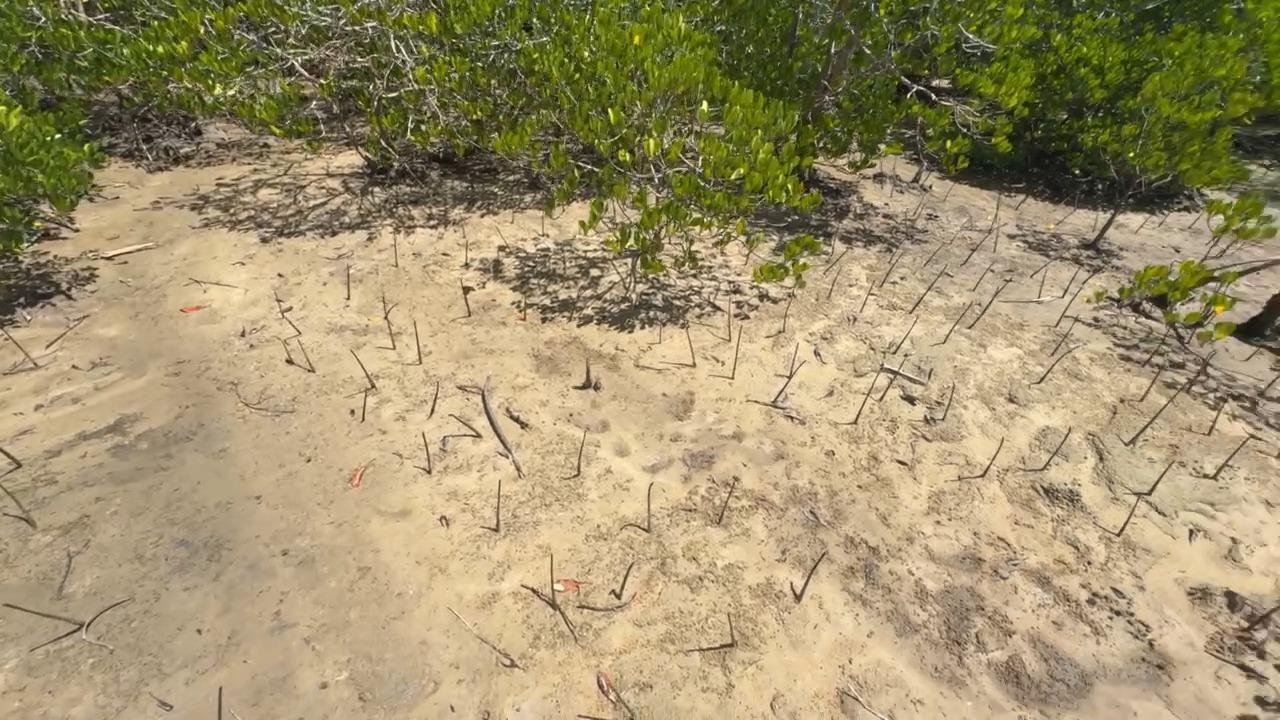Tree: (1185, 321, 1237, 393), (1126, 385, 1185, 444), (1141, 308, 1180, 368), (3, 602, 85, 626), (909, 265, 948, 314), (1212, 435, 1253, 478), (1037, 345, 1081, 384), (854, 365, 883, 424), (771, 360, 807, 403), (0, 326, 38, 366), (797, 552, 826, 603), (965, 286, 999, 329), (0, 483, 33, 527), (942, 300, 974, 344), (1041, 425, 1071, 470), (1050, 313, 1080, 357), (883, 141, 904, 198), (891, 314, 920, 354), (1054, 287, 1083, 327), (879, 359, 906, 401), (349, 348, 376, 388), (1116, 495, 1141, 537), (1242, 605, 1280, 632), (960, 233, 989, 267), (1148, 459, 1175, 495), (982, 436, 1004, 477), (717, 481, 737, 525), (879, 253, 904, 288), (448, 414, 482, 438), (1029, 255, 1062, 278), (1138, 370, 1161, 402), (972, 261, 995, 291), (823, 249, 848, 275), (731, 325, 743, 379), (296, 338, 315, 372), (1062, 266, 1082, 298), (1208, 401, 1226, 435), (618, 562, 634, 600), (271, 335, 293, 362), (923, 242, 945, 267), (826, 267, 842, 300), (859, 280, 875, 313), (427, 381, 440, 421), (942, 381, 955, 420), (0, 446, 23, 468), (685, 326, 697, 368), (989, 193, 1001, 233), (577, 429, 587, 475), (950, 219, 968, 244), (422, 432, 432, 474), (1082, 266, 1104, 285), (912, 191, 928, 217), (413, 320, 422, 365), (496, 226, 512, 251), (460, 278, 470, 315), (942, 179, 958, 202), (283, 315, 302, 334), (1134, 214, 1152, 234), (647, 482, 654, 533), (727, 612, 737, 647), (912, 202, 927, 225), (1262, 374, 1280, 393), (829, 226, 840, 257), (386, 316, 396, 350), (789, 342, 799, 376), (550, 554, 556, 609), (994, 278, 1012, 296), (1056, 210, 1075, 227), (1037, 269, 1048, 298), (383, 303, 400, 320), (783, 300, 792, 332), (1014, 193, 1029, 212), (1187, 212, 1203, 229), (496, 479, 501, 532), (274, 292, 284, 318), (360, 387, 367, 423), (727, 295, 732, 343), (993, 219, 1000, 253), (217, 685, 223, 720), (1157, 212, 1171, 227), (1245, 348, 1260, 361), (887, 247, 899, 263), (585, 357, 591, 388), (393, 231, 398, 267), (576, 714, 605, 720), (1091, 212, 1099, 233), (346, 263, 350, 299), (465, 240, 469, 266), (523, 295, 526, 322), (659, 323, 662, 344), (1074, 191, 1077, 210), (542, 213, 544, 236), (462, 224, 465, 238), (512, 209, 514, 223)
